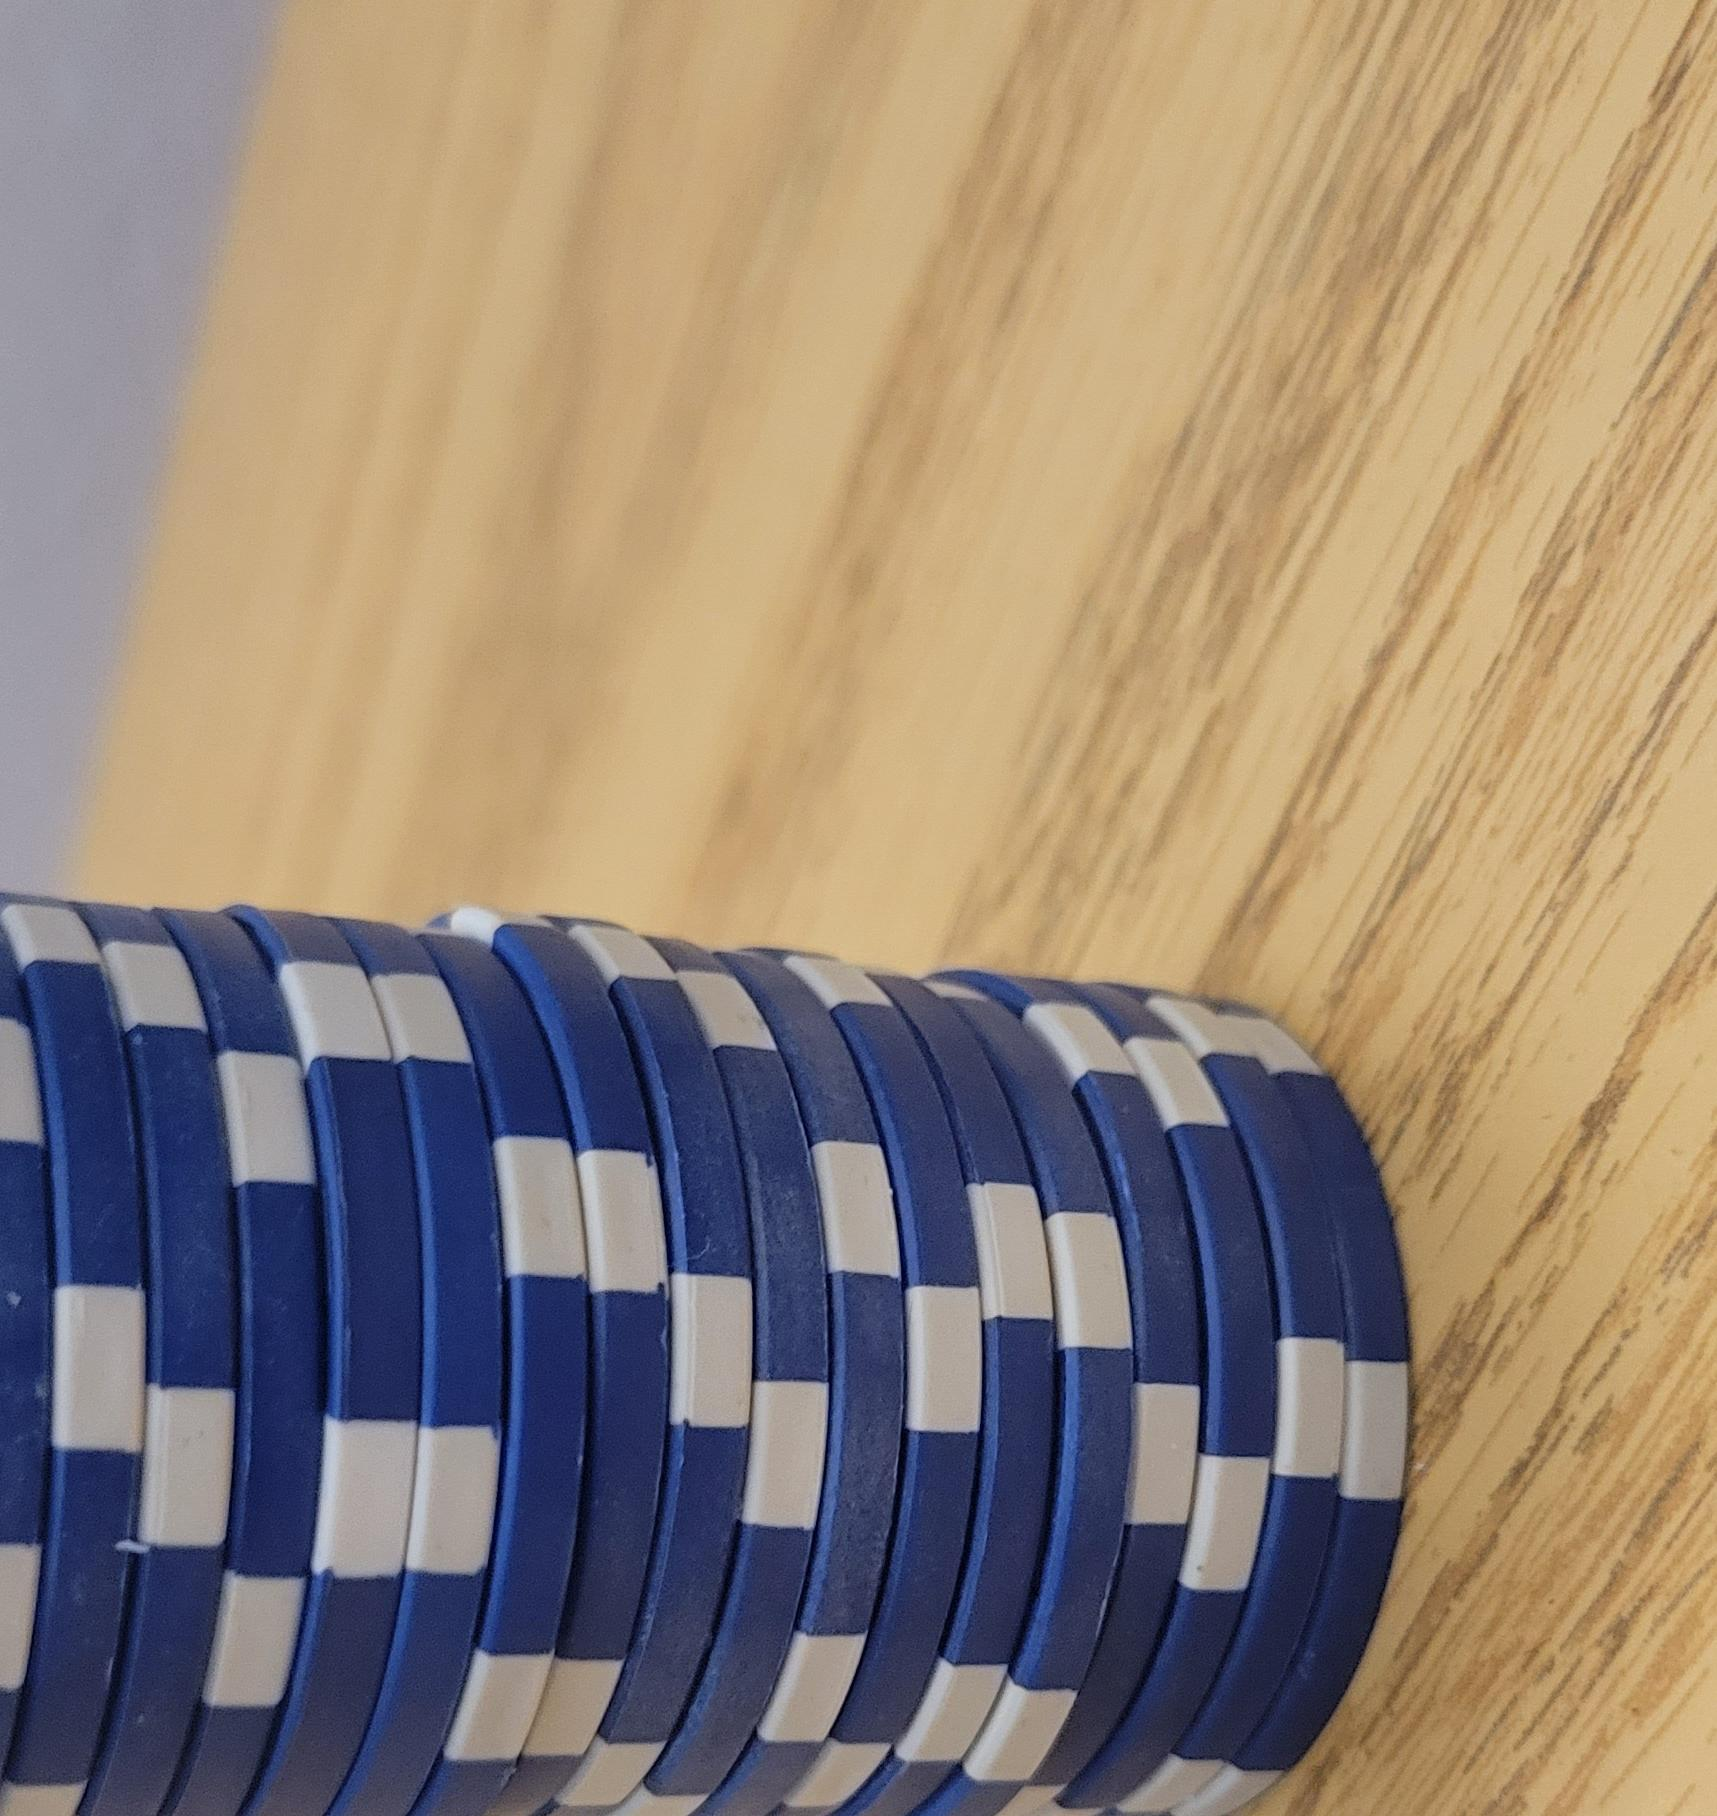Chip: (2, 58, 1009, 1816)
